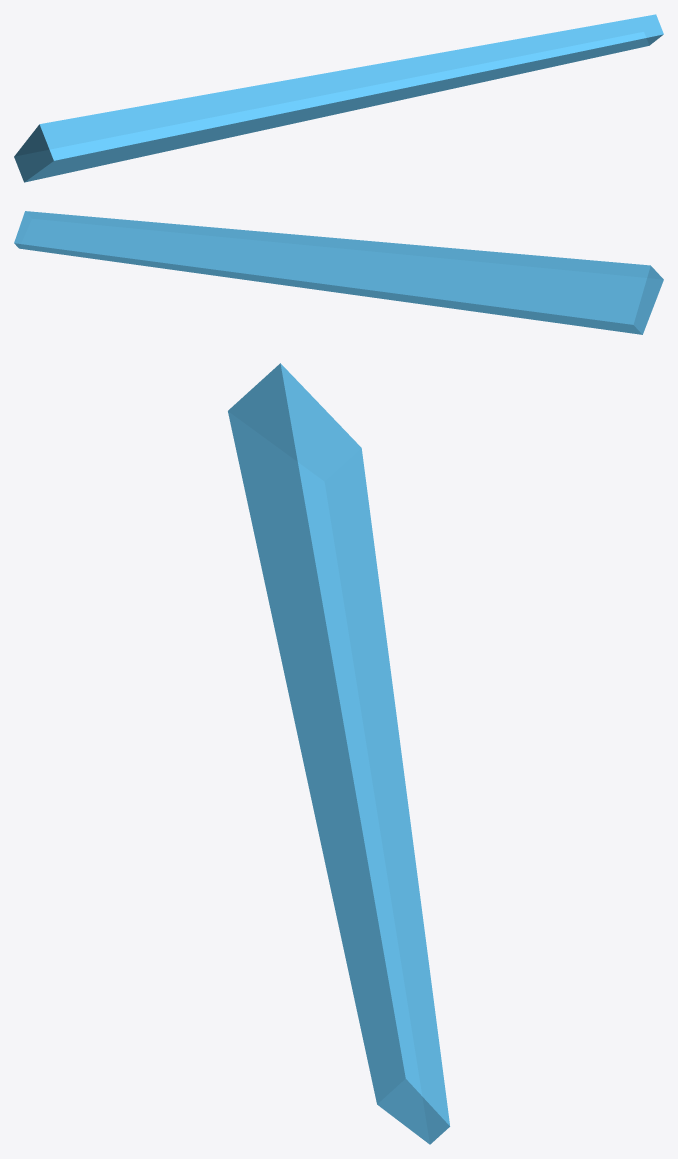
File: Event_420604493_HErechit_55.fbx
3 renders of one model, top to bottom at view 1: azimuth 30°, elevation 25°; view 2: azimuth 150°, elevation 25°; view 3: azimuth 270°, elevation 25°, orthographic. The views are drawn at different scales.
Visible parts, largest first — view 1: Model; view 2: Model; view 3: Model.
Part boxes in pixels (x1,y1,x2,y2): Model: (14, 14, 663, 182); Model: (14, 211, 663, 334); Model: (228, 363, 450, 1144).
Size of the model in its own units: 9.32 by 1.5 by 1.5.
